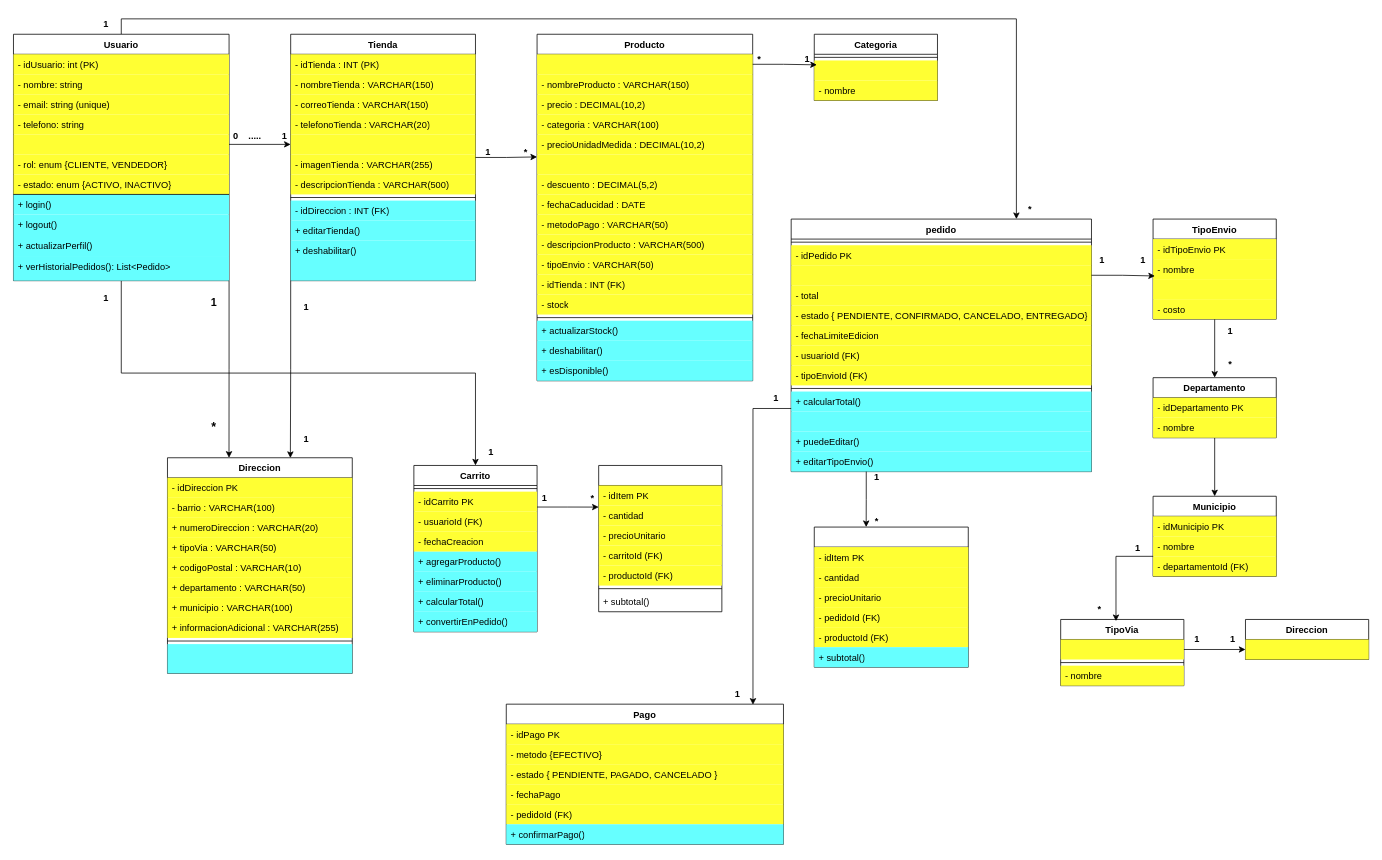
Some shapes in this 1382 by 860 pixel diagram are drawn without their labels. Each missing label, with the box of its shape:
(ya definida arriba): (1245, 639, 1368, 659)
+ cancelar(): (791, 411, 1091, 431)
+ validar(): (167, 644, 352, 673)
- categoriaTienda : VARCHAR(100): (290, 134, 475, 154)
- descripcion: (1153, 279, 1276, 299)
- fecha: (791, 265, 1091, 285)
- idCategoria PK: (814, 60, 937, 80)
- idProducto : INT (PK): (537, 54, 752, 74)
- idTipoVia PK: (1060, 639, 1183, 659)
- password: string: (13, 134, 229, 154)
- unidadMedida : VARCHAR(50): (537, 154, 752, 174)
ItemCarrito: (598, 465, 722, 612)
ItemPedido: (814, 526, 968, 667)
